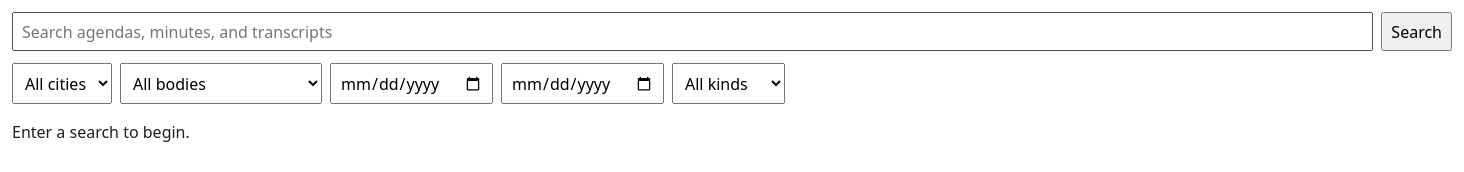
shows No results for an empty hit list
Type "sidewalk repair" into the field with test id "search-input".
click(693, 32); type("sidewalk repair")  # box x1=12 y1=12 x2=1373 y2=51
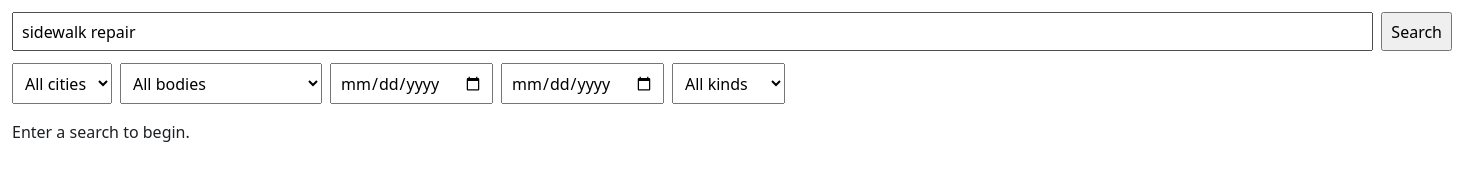
Select "Birch" in the dropdown with test id "filter-city" at (62, 84), box x1=12 y1=63 x2=112 y2=104
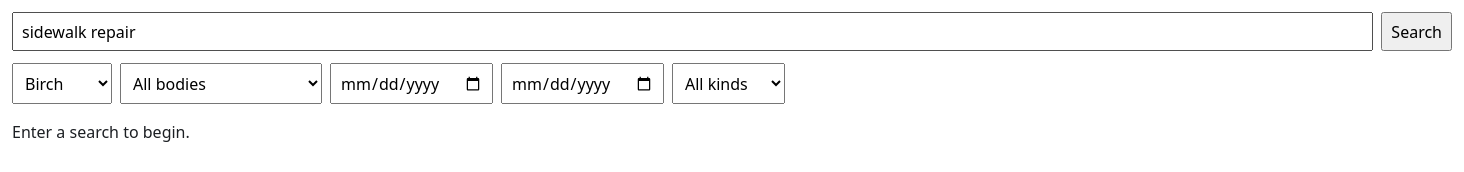
Click the button with test id "search-submit".
click(1417, 32)  # box x1=1381 y1=12 x2=1452 y2=51
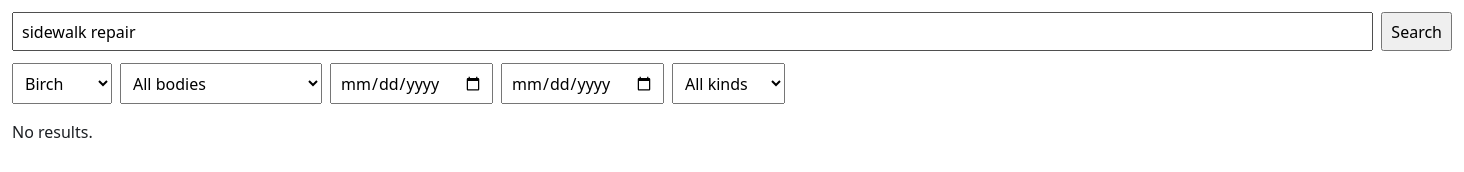
Result: the text with test id "empty" reads "No results." at x1=12 y1=121 x2=93 y2=143
